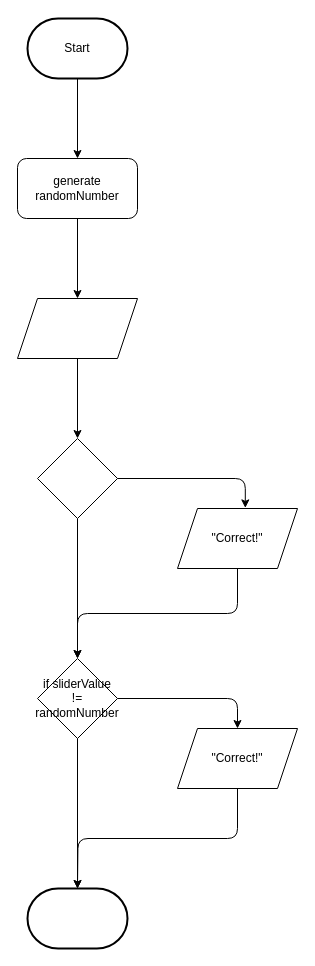
Image size: 315x966. Some labels were removed from this diagram. The shapes that lost their labels are listed below. From the top down, each one's centre as x and y in pixels, then its label:
the point at 77,328: get sliderValue
the point at 77,478: if sliderValue == randomNumber
the point at 77,918: Stop
